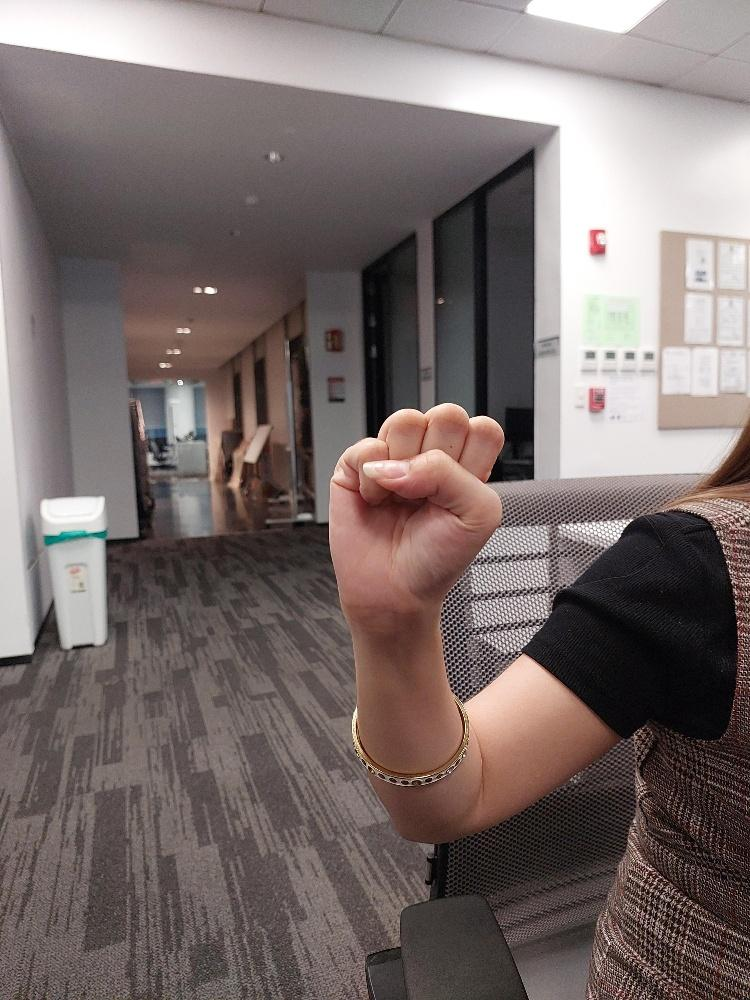s: (325, 396, 506, 619)
